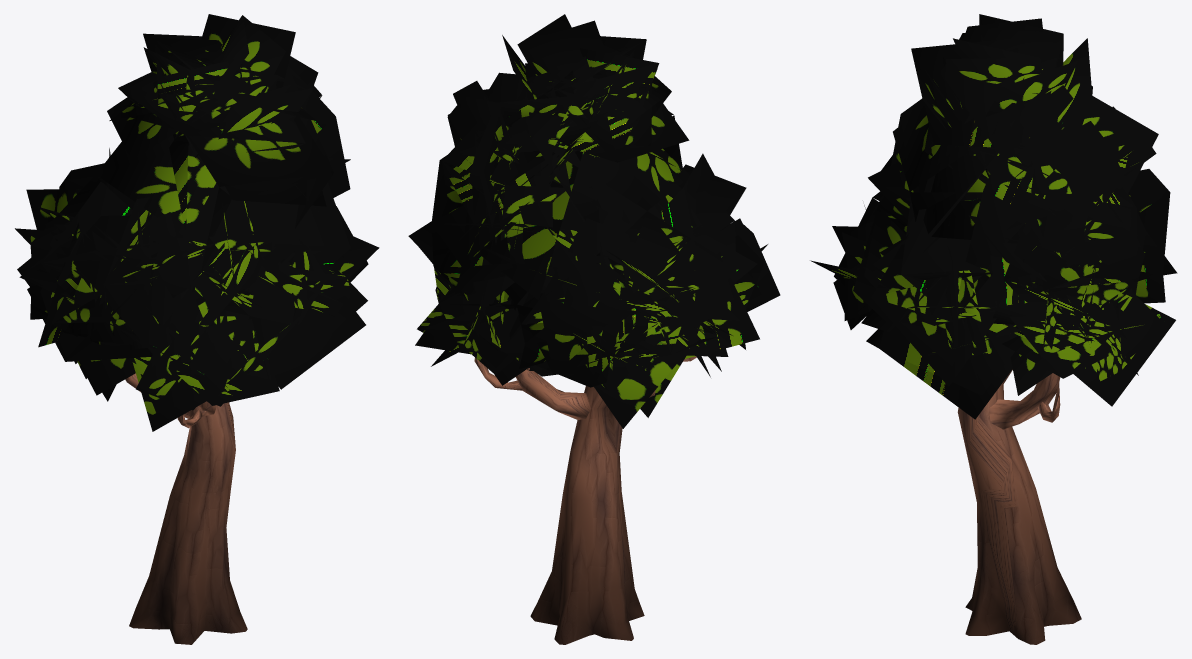
The model's file is CommonTree_2.gltf.
3 views of the same model, side by side, from view 1: azimuth 30°, elevation 25°; view 2: azimuth 150°, elevation 25°; view 3: azimuth 270°, elevation 25° (orthographic). The views are drawn at different scales.
Parts seen in each view (by area): view 1: CommonTree_2; view 2: CommonTree_2; view 3: CommonTree_2.
Boxes of the visible parts, x1,y1,x2,y2 form: CommonTree_2: (15, 14, 379, 644); CommonTree_2: (408, 14, 780, 644); CommonTree_2: (810, 14, 1177, 644).
Bounding box in the file's own units: 4.46 × 7.62 × 4.28.
2 materials, 2 textured.
